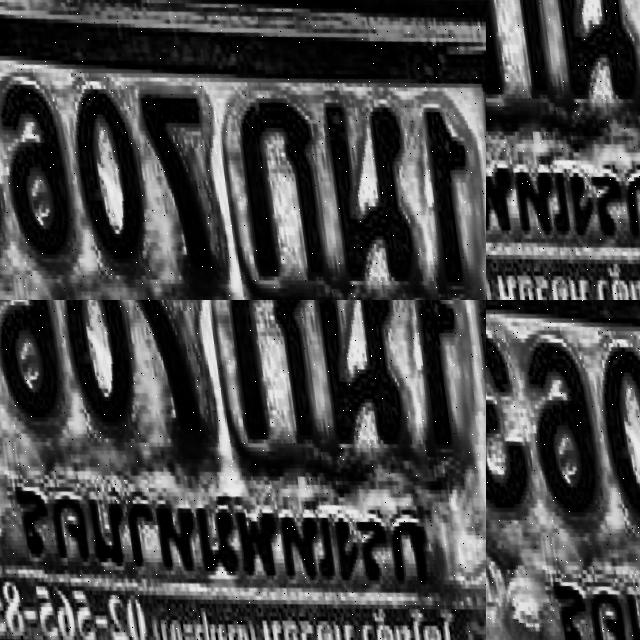license-plate: (0, 0, 486, 300), (102, 300, 486, 470), (486, 300, 640, 640), (486, 0, 640, 146)
